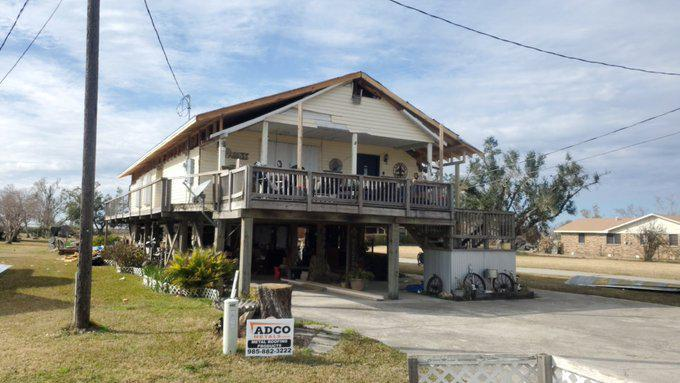affected: (124, 81, 554, 307)
